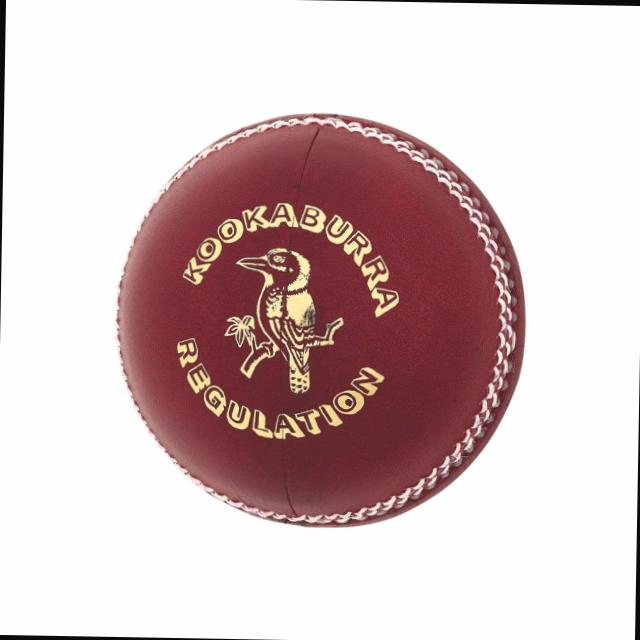ball: (107, 102, 533, 534)
